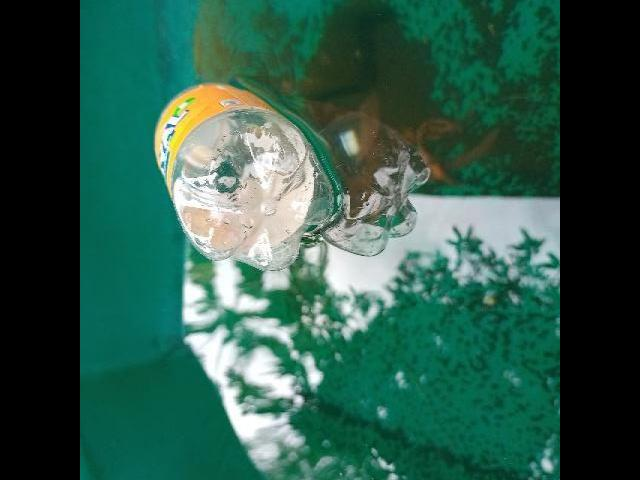Bottle: (144, 71, 342, 280)
